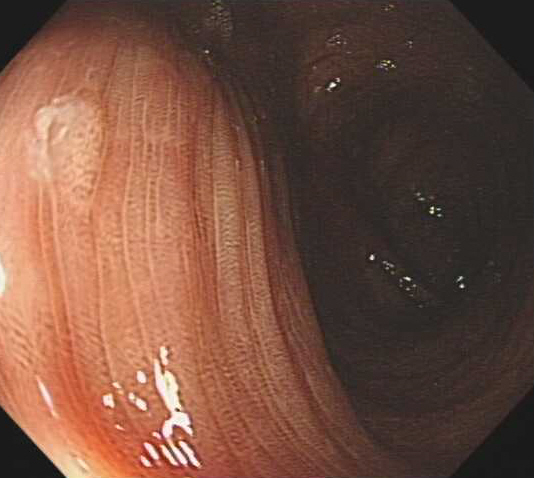others: (32, 94, 104, 207)
